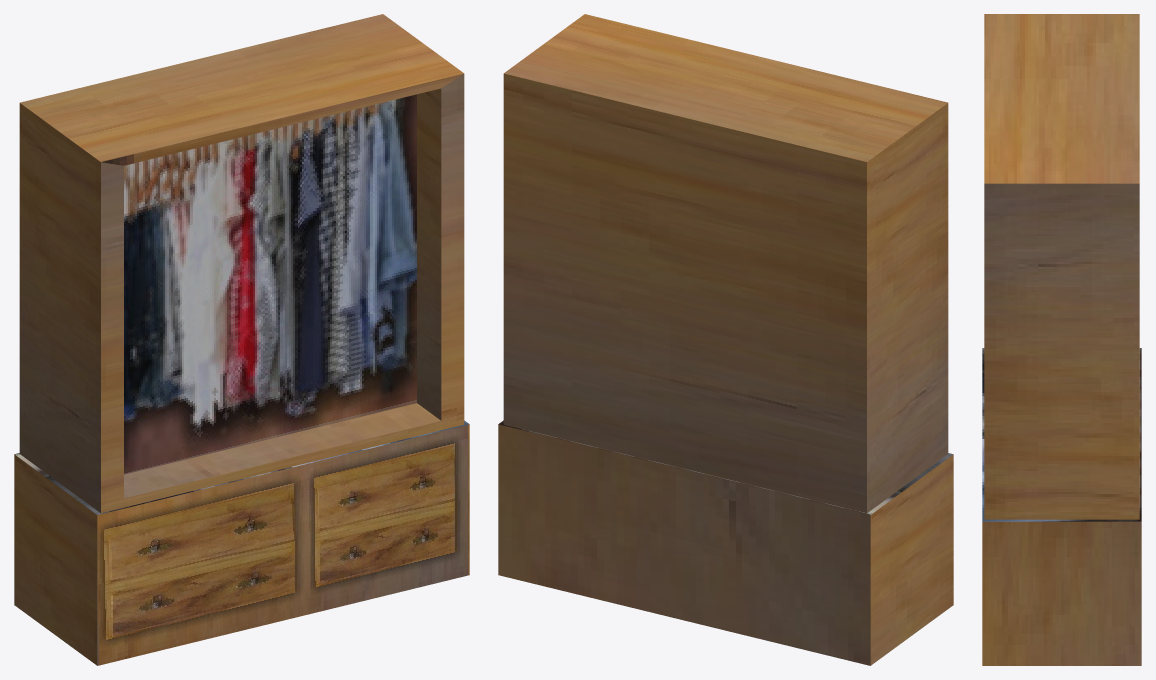
3 renders of one model, left to right at view 1: azimuth 30°, elevation 25°; view 2: azimuth 150°, elevation 25°; view 3: azimuth 270°, elevation 25°, orthographic. The views are drawn at different scales.
Parts seen in each view (by area): view 1: Object_2; view 2: Object_2; view 3: Object_2.
Boxes of the visible parts, x1,y1,x2,y2 form: Object_2: [14, 14, 469, 665]; Object_2: [498, 14, 953, 665]; Object_2: [982, 14, 1141, 665].
Size of the model in its own units: 5.17 by 6.66 by 2.
1 material, 1 textured.
